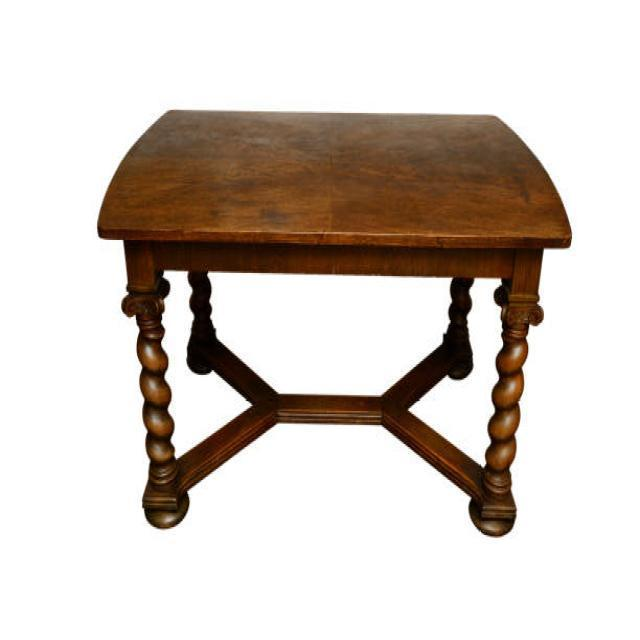table: (96, 106, 572, 536)
